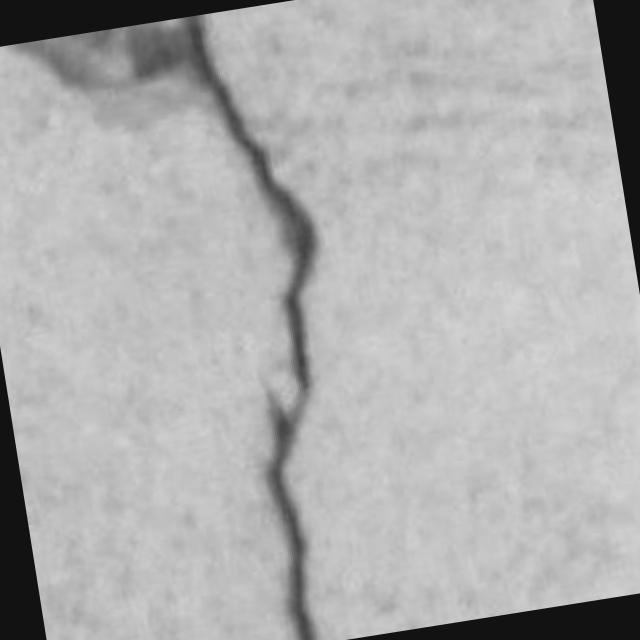crack: (185, 15, 316, 639), (11, 20, 190, 110)
